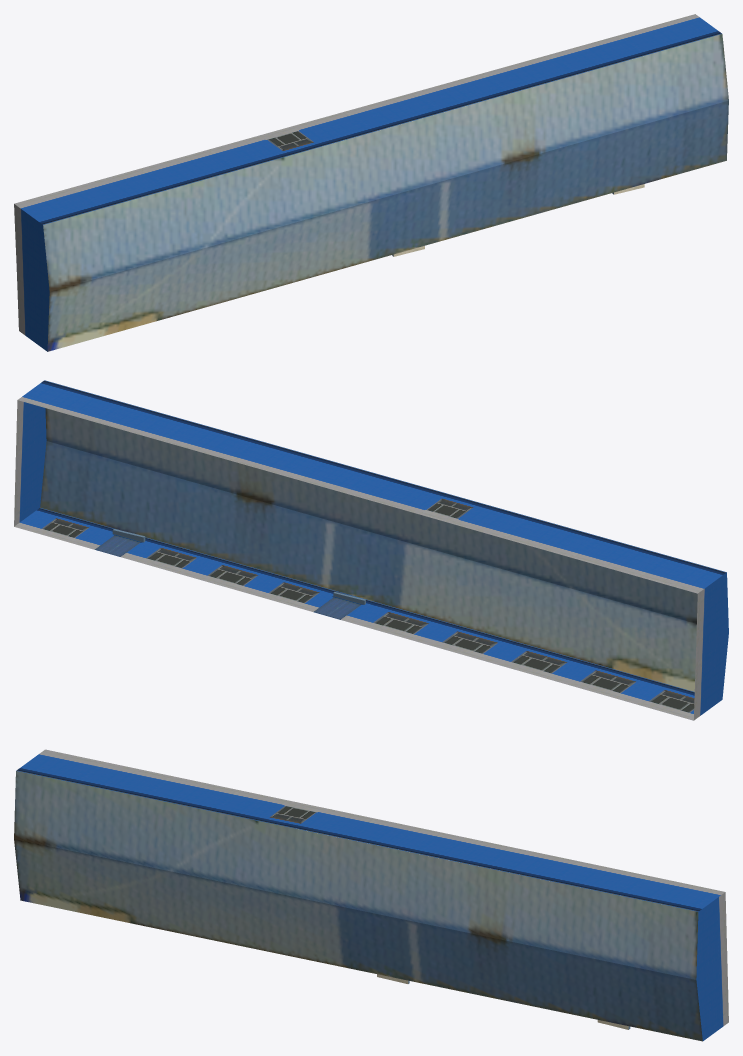
3 views of the same model, one above another, from view 1: azimuth 30°, elevation 25°; view 2: azimuth 150°, elevation 25°; view 3: azimuth 330°, elevation 25° (orthographic).
Parts seen in each view (by area): view 1: Group_MatrixTransform_i96143_Geometry_5, Group_MatrixTransform_i96143_Geometry_1, Group_MatrixTransform_i96143_Geometry_0, Group_MatrixTransform_i96143_Geometry_4; view 2: Group_MatrixTransform_i96143_Geometry_5, Group_MatrixTransform_i96143_Geometry_1, Group_MatrixTransform_i96143_Geometry_4, Group_MatrixTransform_i96143_Geometry_0, Group_MatrixTransform_i96143_Geometry_3; view 3: Group_MatrixTransform_i96143_Geometry_5, Group_MatrixTransform_i96143_Geometry_1, Group_MatrixTransform_i96143_Geometry_0, Group_MatrixTransform_i96143_Geometry_4.
Boxes of the visible parts, left/top/right/bottom form: Group_MatrixTransform_i96143_Geometry_5: left=43, top=34, right=728, bottom=351; Group_MatrixTransform_i96143_Geometry_1: left=14, top=14, right=721, bottom=224; Group_MatrixTransform_i96143_Geometry_0: left=14, top=204, right=49, bottom=351; Group_MatrixTransform_i96143_Geometry_4: left=259, top=126, right=320, bottom=155; Group_MatrixTransform_i96143_Geometry_5: left=40, top=408, right=697, bottom=691; Group_MatrixTransform_i96143_Geometry_1: left=18, top=380, right=726, bottom=593; Group_MatrixTransform_i96143_Geometry_4: left=14, top=493, right=694, bottom=720; Group_MatrixTransform_i96143_Geometry_0: left=14, top=400, right=728, bottom=720; Group_MatrixTransform_i96143_Geometry_3: left=86, top=528, right=376, bottom=622; Group_MatrixTransform_i96143_Geometry_5: left=14, top=771, right=702, bottom=1041; Group_MatrixTransform_i96143_Geometry_1: left=16, top=749, right=724, bottom=911; Group_MatrixTransform_i96143_Geometry_0: left=696, top=892, right=728, bottom=1040; Group_MatrixTransform_i96143_Geometry_4: left=262, top=801, right=323, bottom=828.
Size of the model in its own units: 75.43 by 16.17 by 6.38.
Materials: 7 (7 with a texture image).
